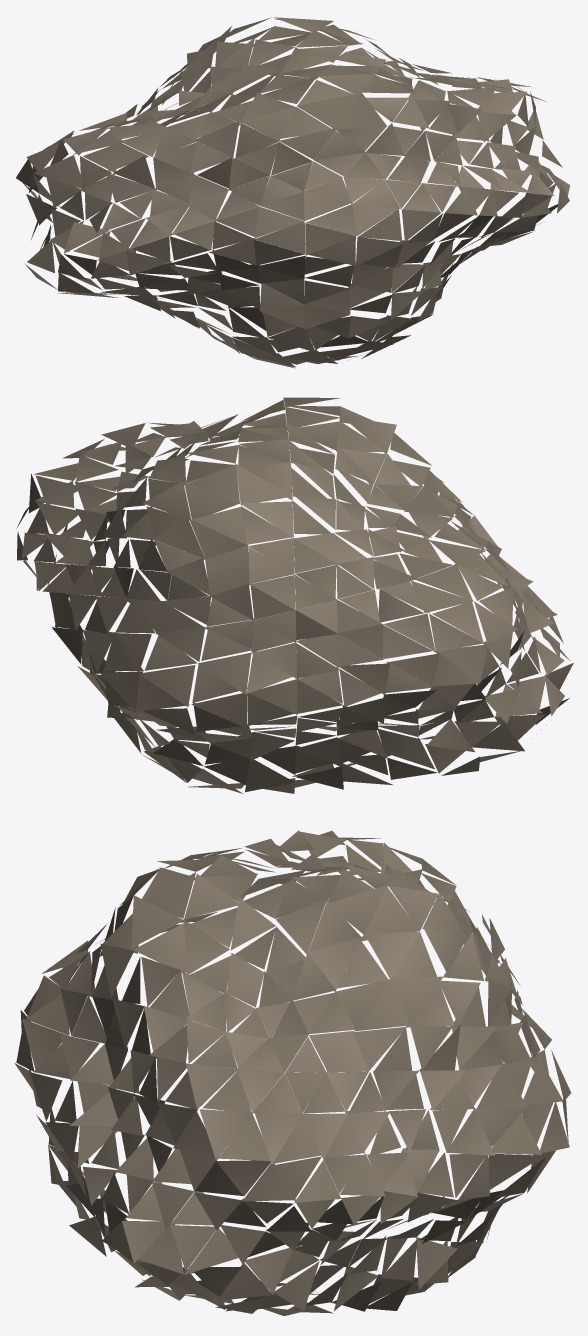
The model's file is mature-lod1.glb.
3 views of the same model, one above another, from view 1: azimuth 30°, elevation 25°; view 2: azimuth 150°, elevation 25°; view 3: azimuth 270°, elevation 25° (orthographic). The views are drawn at different scales.
Visible parts, largest first — view 1: coherent-weathered-fieldstone; view 2: coherent-weathered-fieldstone; view 3: coherent-weathered-fieldstone.
Boxes of the visible parts, left/top/right/bottom form: coherent-weathered-fieldstone: left=16, top=17, right=569, bottom=368; coherent-weathered-fieldstone: left=16, top=397, right=573, bottom=793; coherent-weathered-fieldstone: left=14, top=830, right=571, bottom=1315.
Bounding box in the file's own units: 4.61 × 2.66 × 3.27.
